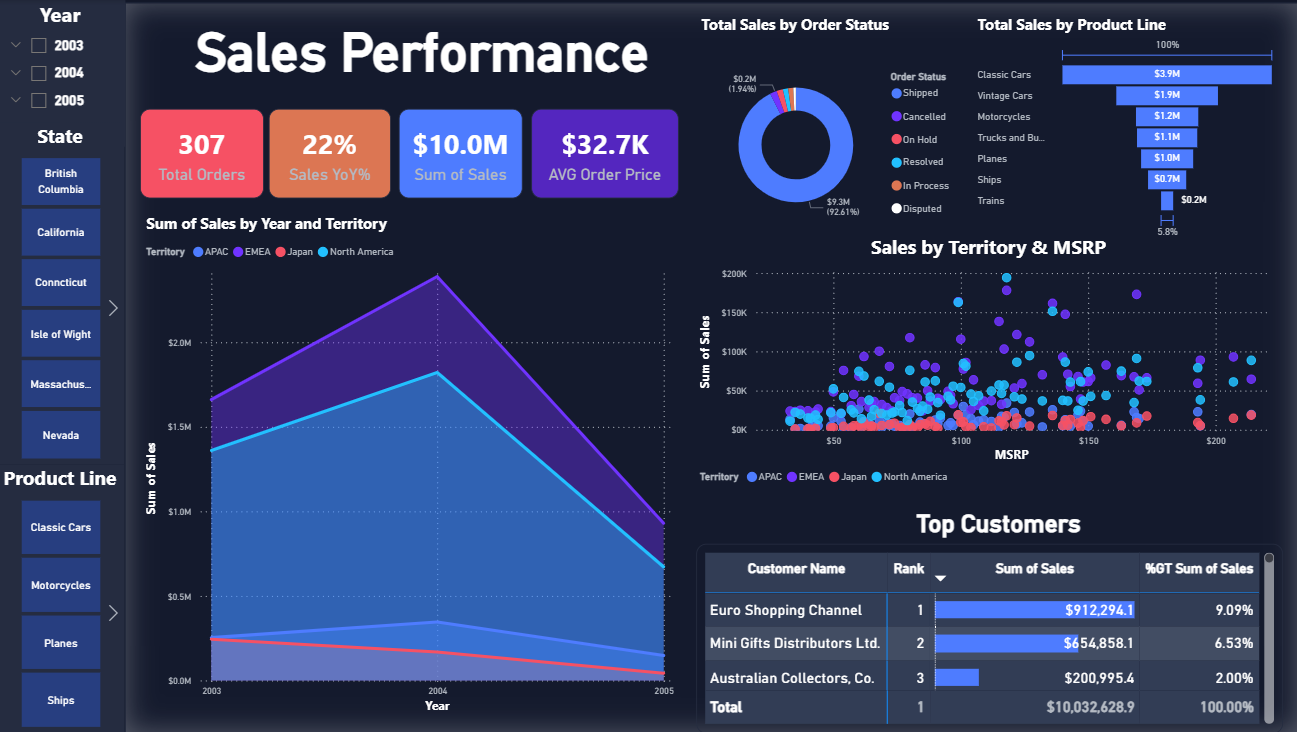

This screenshot's page, from the dashboard's own definition file:
{"tool":"powerbi","page":{"name":"Sales Performance","canvas":[1280,720],"ordinal":0},"visuals":[{"type":"textbox","box":[127.5,2.5,1152.5,717.5],"z":0},{"type":"card","fields":{"Values":["Sum(Sales.Sales)"]},"box":[396.7,106.7,121.7,88.3],"z":1000},{"type":"card","fields":{"Values":["Sales.order_volume"]},"box":[142.4,106.6,121.7,88.3],"z":2000},{"type":"card","fields":{"Values":["Sales.AVG Deal Price"]},"box":[526.7,106.7,145,88.3],"z":3000},{"type":"slicer","title":"Year","fields":{"Values":["Sales.Order Date.Variation.Date Hierarchy.Year","Sales.Order Date.Variation.Date Hierarchy.Quarter","Sales.Order Date.Variation.Date Hierarchy.Month","Sales.Order Date.Variation.Date Hierarchy.Day"]},"box":[0,0,128,144],"z":4000},{"type":"slicer","title":"Product Line","fields":{"Values":["Products.Product Line"]},"box":[0,456.2,127.5,263.8],"z":5000},{"type":"slicer","title":"State","fields":{"Values":["Customers.State"]},"box":[0,120,127.5,336.2],"z":6000},{"type":"card","fields":{"Values":["Sales.Sales YoY%"]},"box":[268.3,106.7,120,88.3],"z":7000},{"type":"donutChart","title":"Total Sales by Order Status","fields":{"Category":["Sales.Order Status"],"Y":["Sum(Sales.Sales)"]},"box":[688,14,272,238],"z":8000},{"type":"funnel","title":"Total Sales by Product Line","fields":{"Category":["Products.Product Line"],"Y":["Sum(Sales.Sales)"]},"box":[960,14,304,224],"z":9000},{"type":"scatterChart","title":" Sales by Territory & MSRP","fields":{"Series":["Customers.Territory"],"Y":["Sum(Sales.Sales)"],"X":["Products.MSRP"]},"box":[687.5,230,576.2,256.2],"z":10000},{"type":"lineChart","fields":{"Y":["Sum(Sales.Sales)"],"Series":["Customers.Territory"],"Category":["Sales.Order Date.Variation.Date Hierarchy.Year","Sales.Order Date.Variation.Date Hierarchy.Quarter","Sales.Order Date.Variation.Date Hierarchy.Month","Sales.Order Date.Variation.Date Hierarchy.Day"]},"box":[144,208,528,496],"z":11000},{"type":"pivotTable","fields":{"Rows":["Customers.Customer Name"],"Values":["Sales.Rank","Sum(Sales.Sales)","Divide(Sum(Sales.Sales), ScopedEval(Sum(Sales.Sales), []))"]},"box":[688,534,576,186],"z":12000},{"type":"textbox","box":[868.8,485,213.8,53.8],"z":13001}]}

Visuals, with their boxes in screenshot pixels (x1, y1, x2, y2), scaled from the page's 1280x720 canvas onto the 1297x732 screenshot:
textbox: 129, 3, 1296, 731
card - Sum(Sales.Sales): 402, 108, 525, 198
card - Sales.order_volume: 144, 108, 268, 198
card - Sales.AVG Deal Price: 534, 108, 681, 198
"Year" slicer: 0, 0, 130, 146
"Product Line" slicer: 0, 464, 129, 731
"State" slicer: 0, 122, 129, 464
card - Sales.Sales YoY%: 272, 108, 393, 198
"Total Sales by Order Status" donutChart: 697, 14, 973, 256
"Total Sales by Product Line" funnel: 973, 14, 1281, 242
" Sales by Territory & MSRP" scatterChart: 697, 234, 1280, 494
lineChart - Sum(Sales.Sales) x Customers.Territory: 146, 211, 681, 716
pivotTable - Customers.Customer Name x Sales.Rank: 697, 543, 1281, 731
textbox: 880, 493, 1097, 548
